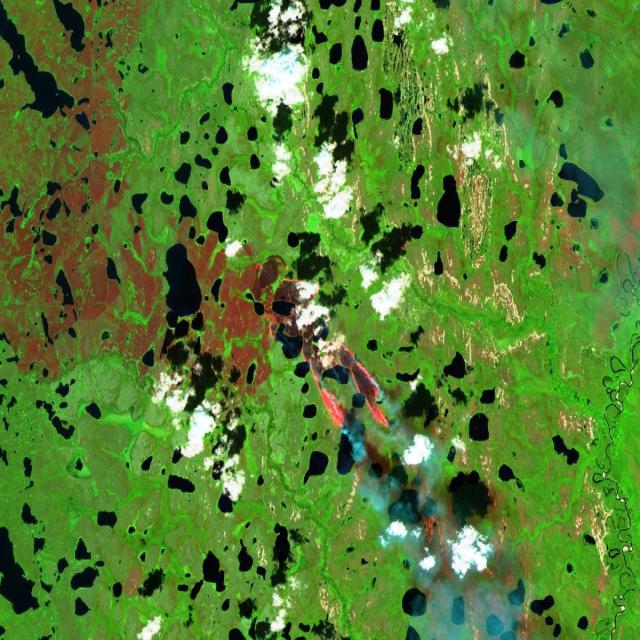fire: (252, 255, 392, 444)
